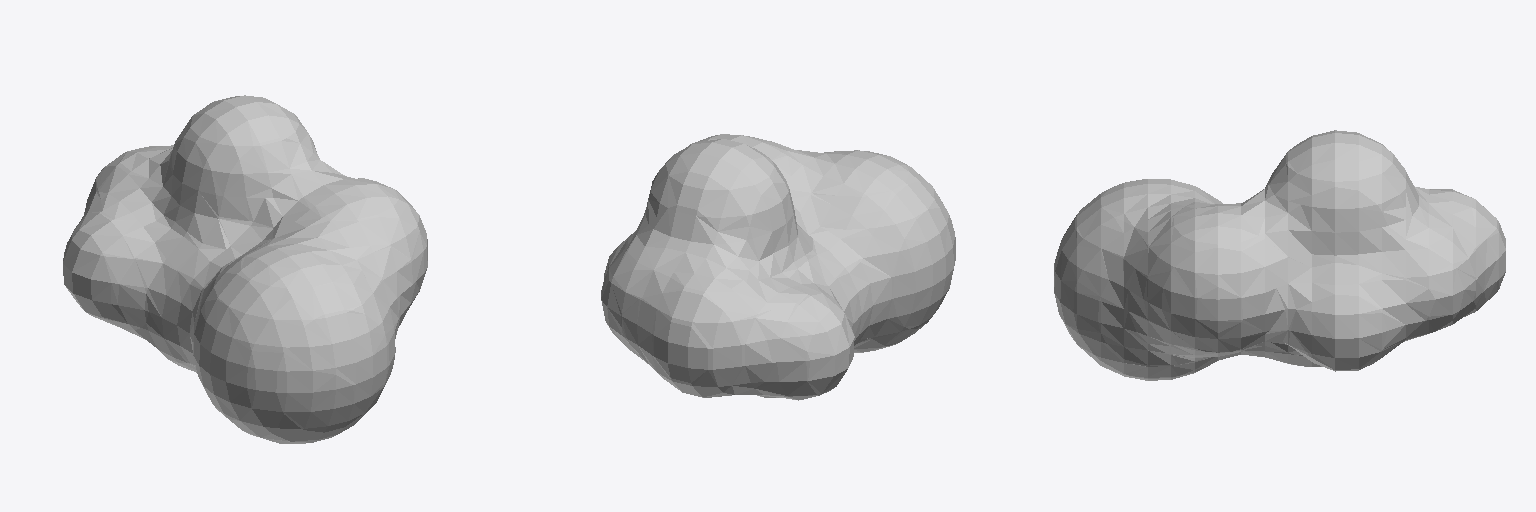
3 renders of one model, left to right at view 1: azimuth 30°, elevation 25°; view 2: azimuth 150°, elevation 25°; view 3: azimuth 270°, elevation 25°, orthographic.
Visible parts, largest first — view 1: Mball.008; view 2: Mball.008; view 3: Mball.008.
Part boxes in pixels (bbox=[...]): Mball.008: bbox=[63, 95, 427, 443]; Mball.008: bbox=[601, 134, 955, 400]; Mball.008: bbox=[1054, 130, 1505, 380].
Size of the model in its own units: 3.39 by 3.1 by 5.